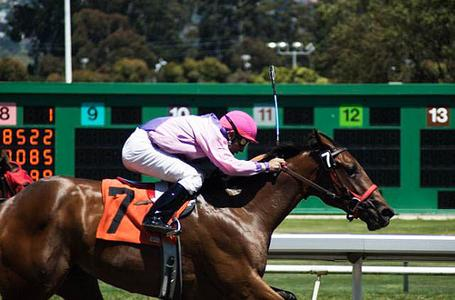person: (122, 112, 288, 236)
